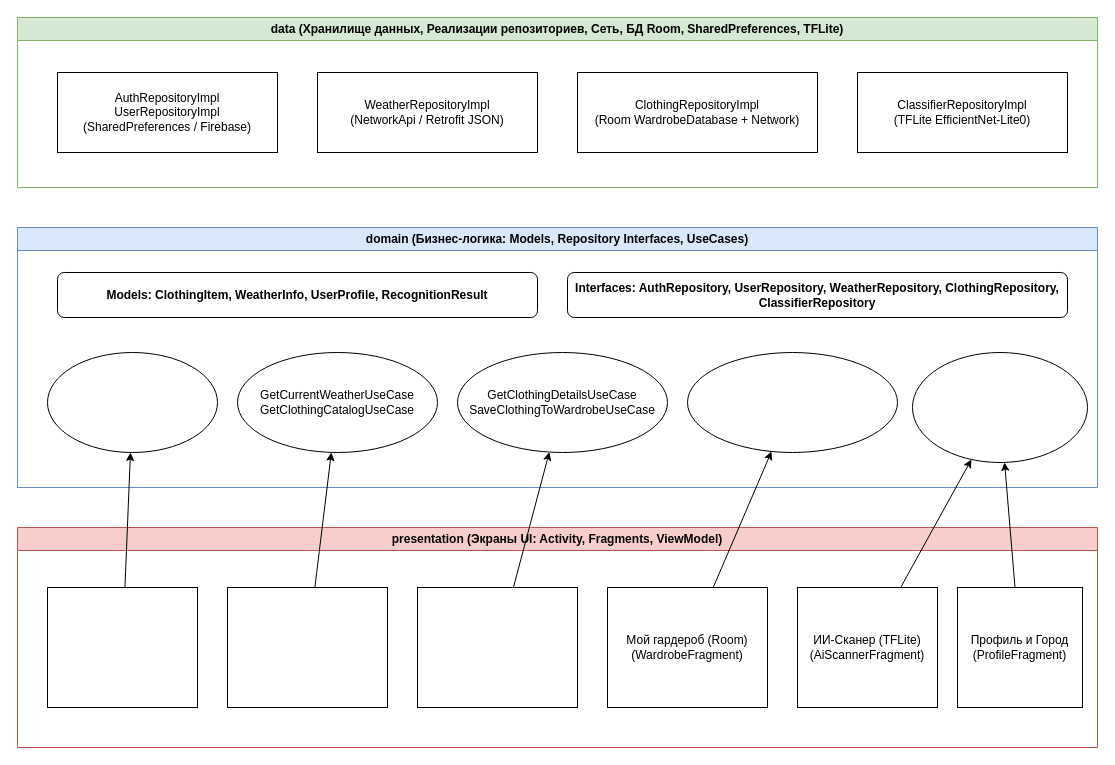
The diagram is 1115 pixels wide and 765 high, and some of its shapes have lost their labels. The shapes that lost their labels are listed below. From the top down, each one's centre as x and y in pixels, then its label:
point 132,402: LoginUseCase RegisterUseCase LogoutUseCase
point 792,402: GetUserWardrobeUseCase RemoveClothingFromWardrobeUseCase
point 1000,407: RecognizeClothingByPhotoUseCase GetUserProfileUseCase SavePreferredCityUseCase
point 122,647: Экран авторизации (AuthActivity)
point 307,647: Каталог и Погода (CatalogFragment)
point 497,647: Страница вещи (ClothingDetailsFragment)
